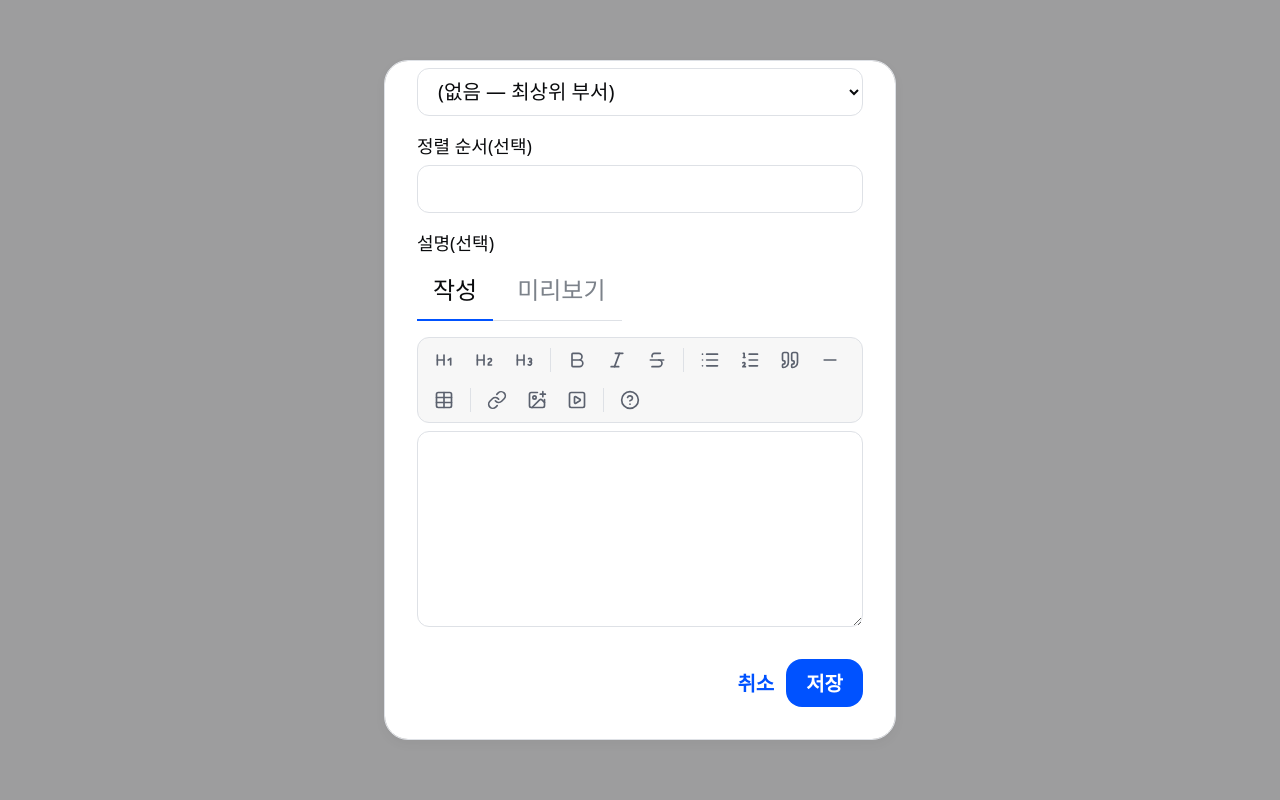
Test: DepartmentFormDialog › 부서명이 비면 검증 메시지를 보이고 생성하지 않는다
The width and height of the screenshot is (1280, 800).
(page scrolled)
Click the button "저장" at (825, 683), box [786,659,863,707]
(page scrolled)
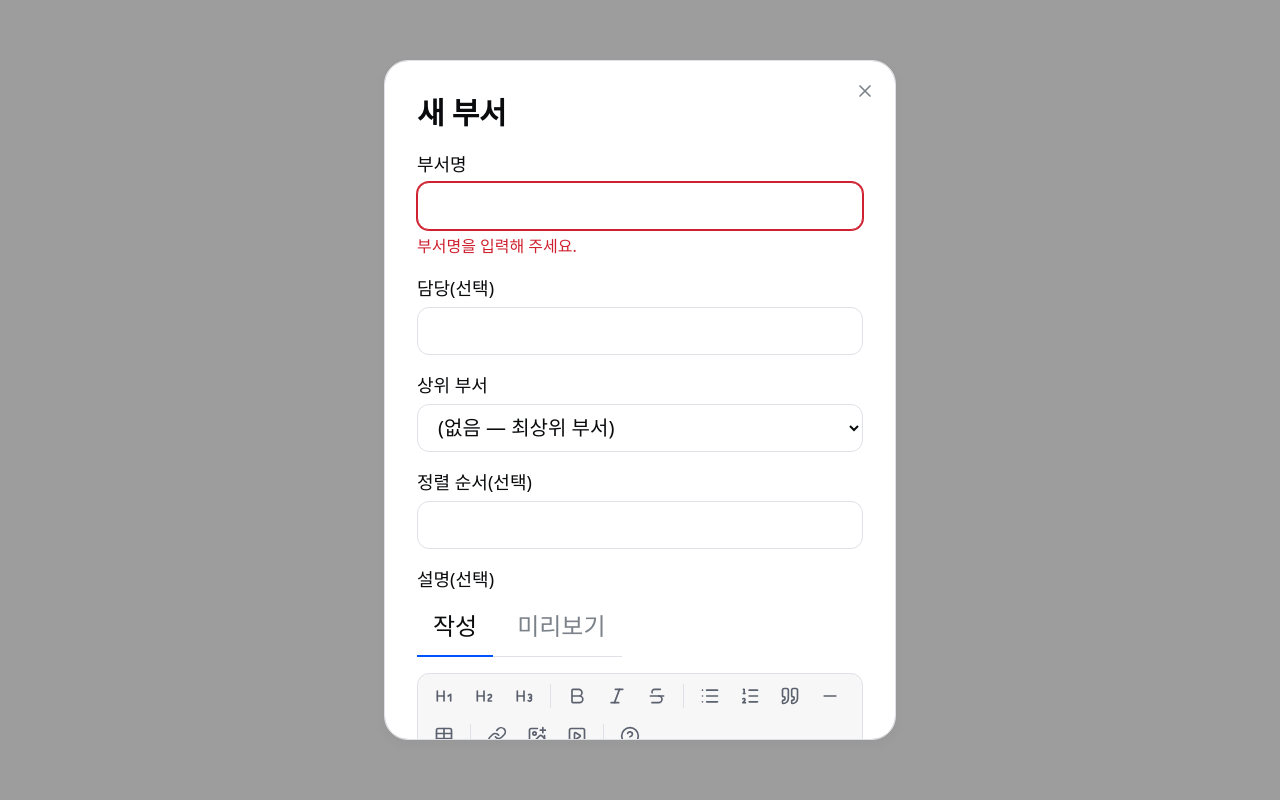
Expected: the text "부서명을 입력해 주세요." is shown, [417,235,577,257]
